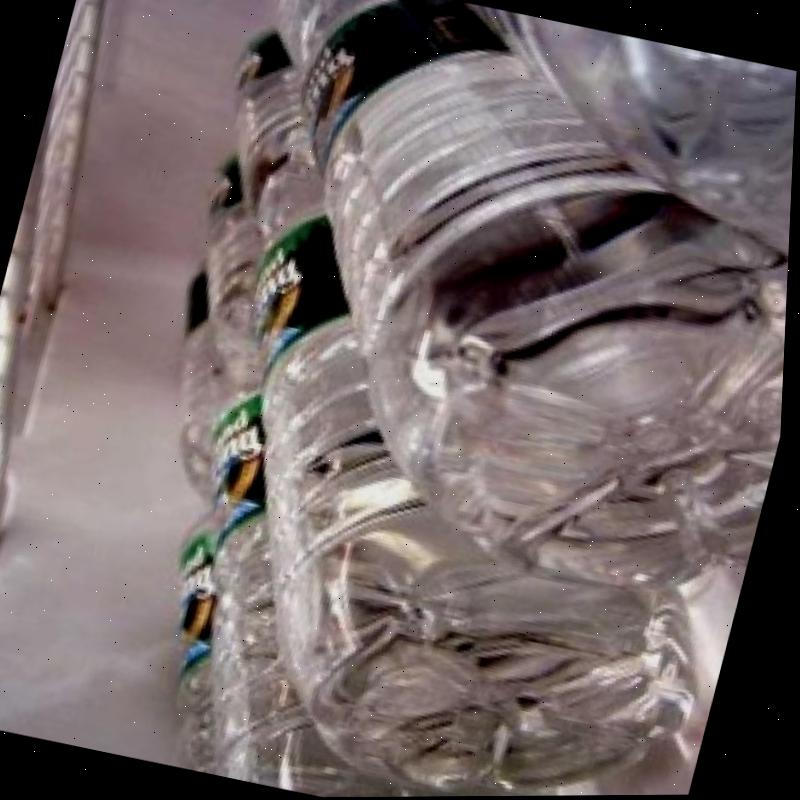botella: (129, 124, 795, 799), (177, 0, 800, 620), (128, 266, 689, 799), (410, 0, 800, 258), (132, 501, 291, 777), (142, 261, 276, 499), (169, 150, 302, 370), (204, 24, 321, 227), (239, 0, 313, 60)
